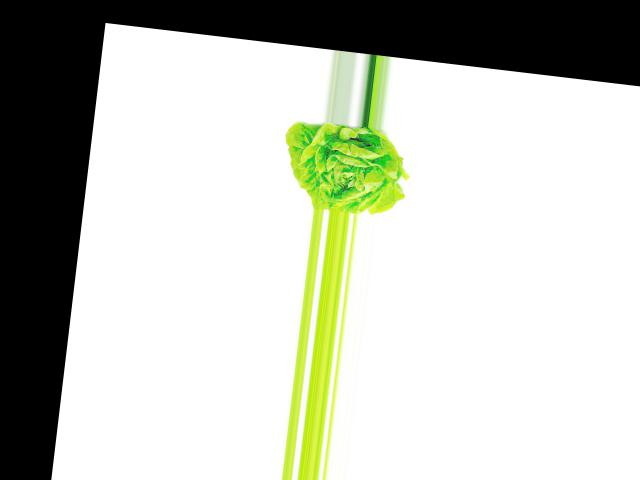lettuce: (275, 116, 409, 218)
